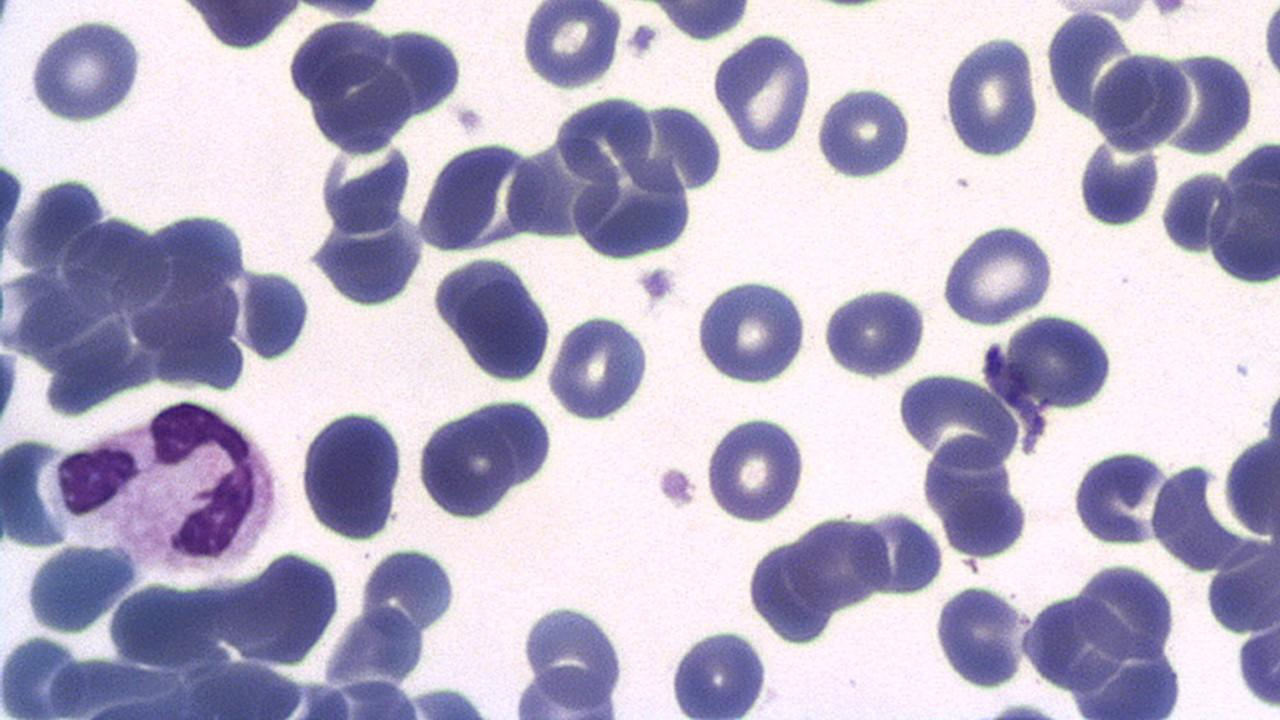Platelets: (27, 17, 152, 127), (812, 84, 912, 182), (653, 463, 701, 509), (0, 337, 21, 428), (634, 263, 678, 304), (982, 696, 1060, 718), (626, 21, 660, 58), (815, 0, 883, 12), (1147, 1, 1191, 19), (0, 0, 18, 34)
RBC: (708, 31, 815, 156), (26, 14, 145, 126), (693, 275, 811, 387), (516, 600, 630, 715), (942, 30, 1043, 159), (938, 220, 1055, 328), (1204, 132, 1280, 292), (544, 314, 652, 424), (415, 410, 516, 524), (702, 414, 808, 522), (932, 580, 1031, 692), (1089, 51, 1195, 154), (1159, 47, 1255, 158), (819, 284, 929, 380), (813, 81, 915, 181), (516, 2, 626, 91), (1160, 161, 1232, 259), (1221, 424, 1279, 542)
WBC: (472, 47, 1247, 720), (111, 0, 932, 415), (0, 0, 419, 674), (984, 0, 1280, 329), (8, 173, 322, 429), (65, 391, 286, 587), (512, 87, 720, 264), (1020, 557, 1194, 720), (410, 392, 557, 526), (430, 253, 556, 385), (296, 403, 408, 543), (19, 9, 151, 127), (513, 600, 635, 712), (710, 30, 816, 157), (940, 218, 1058, 328), (544, 312, 654, 424), (930, 577, 1036, 693), (1004, 310, 1120, 412), (1072, 445, 1182, 552), (1205, 133, 1280, 289), (664, 624, 780, 718), (819, 283, 930, 381), (516, 1, 626, 92), (1075, 127, 1163, 232), (168, 0, 319, 53), (1221, 419, 1280, 543), (1231, 610, 1280, 714), (1259, 0, 1279, 94)
